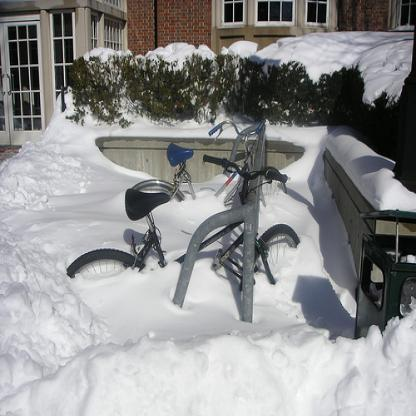bicycle: (64, 153, 300, 285), (126, 119, 288, 217)
